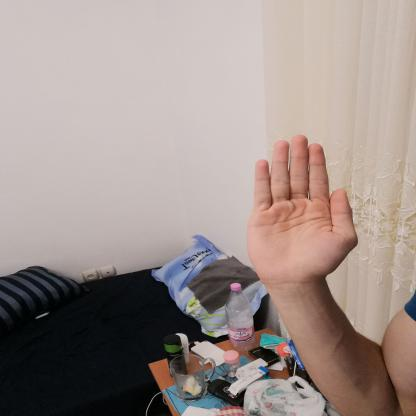SEEN: (237, 126, 368, 294)
